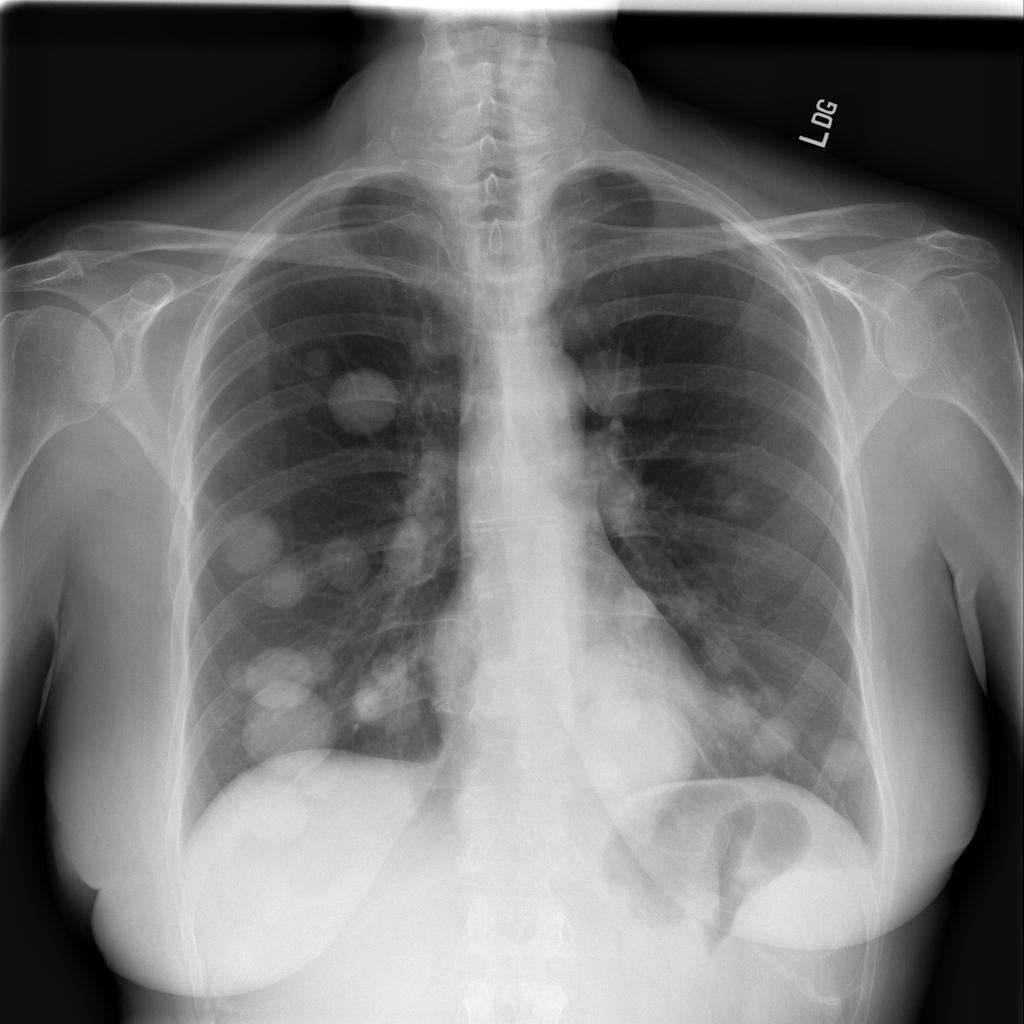nodule: (223, 661, 341, 780), (569, 340, 652, 423), (348, 662, 433, 741), (320, 364, 404, 440), (378, 516, 453, 599), (254, 714, 342, 784), (234, 778, 317, 849), (575, 639, 646, 720), (231, 643, 319, 708), (309, 520, 379, 601), (675, 439, 747, 511), (705, 464, 776, 535), (735, 707, 808, 775), (811, 722, 881, 792), (246, 554, 320, 618), (657, 568, 723, 639), (604, 575, 668, 646), (691, 618, 758, 685), (221, 510, 285, 572), (634, 381, 689, 431), (287, 340, 341, 386), (213, 651, 262, 701), (706, 690, 756, 737)
